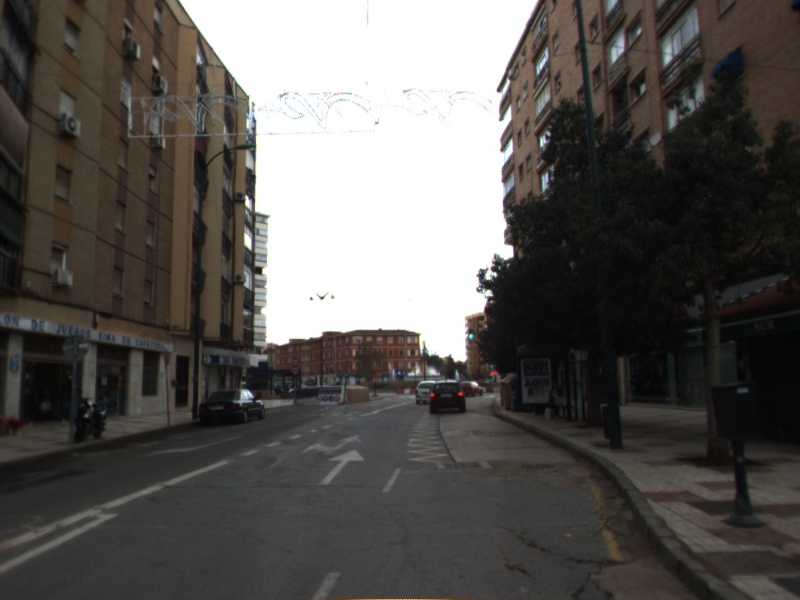STRAIGHT: (316, 447, 366, 487)
STRAIGHT_LEFT: (299, 432, 364, 457)
